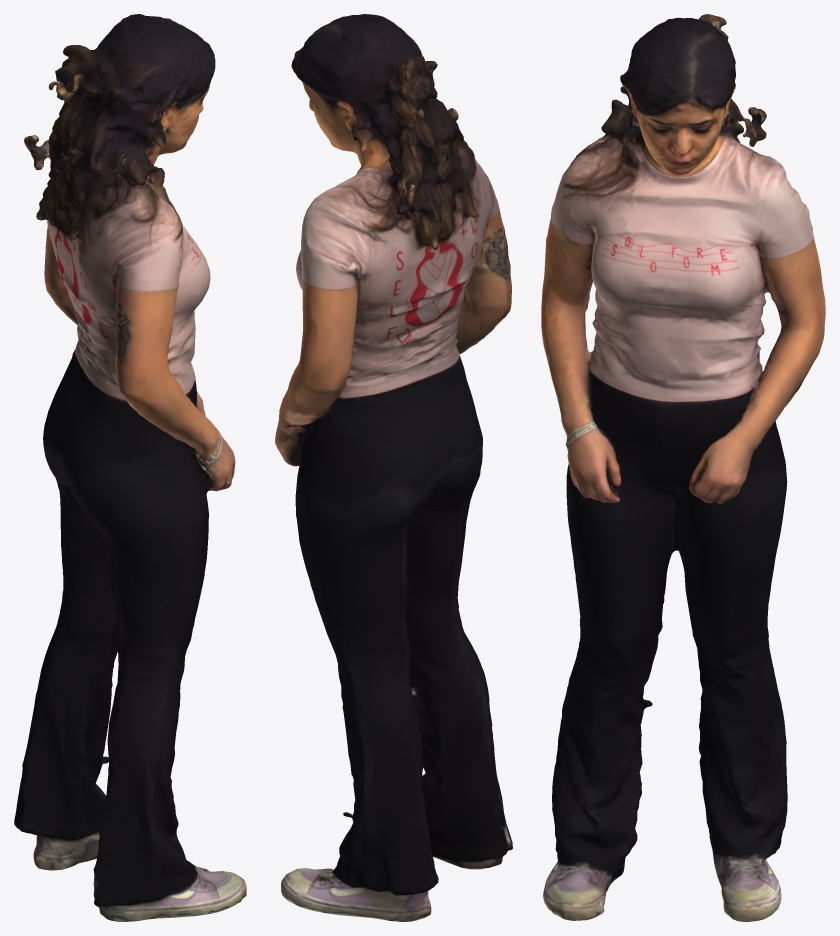
3 views of the same model, side by side, from view 1: azimuth 30°, elevation 25°; view 2: azimuth 150°, elevation 25°; view 3: azimuth 270°, elevation 25° (orthographic). The views are drawn at different scales.
Parts seen in each view (by area): view 1: 7b51f75_00412; view 2: 7b51f75_00412; view 3: 7b51f75_00412.
Boxes of the visible parts, bbox=[...] form: 7b51f75_00412: bbox=[14, 14, 246, 921]; 7b51f75_00412: bbox=[275, 14, 512, 921]; 7b51f75_00412: bbox=[541, 14, 825, 921].
Size of the model in its own units: 328 by 1577 by 465.
1 material, 1 textured.
